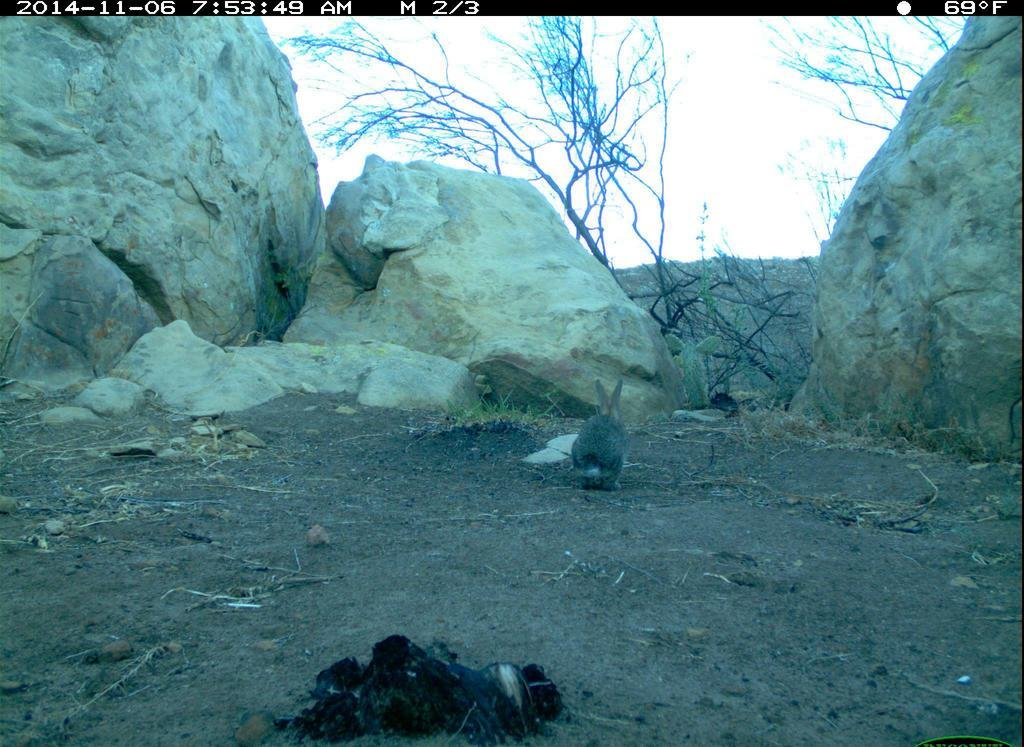rabbit: (568, 379, 637, 500)
